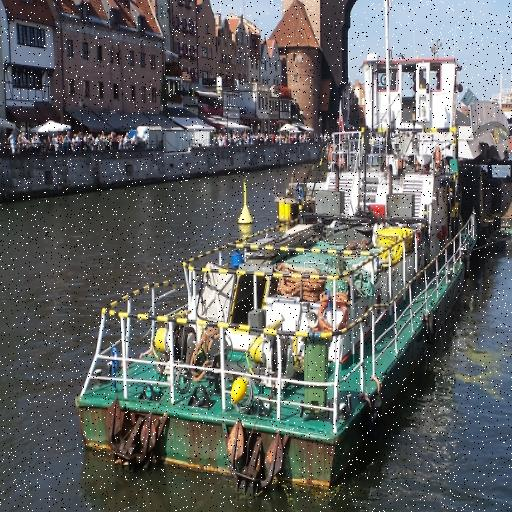tugboat: (68, 51, 482, 512)
